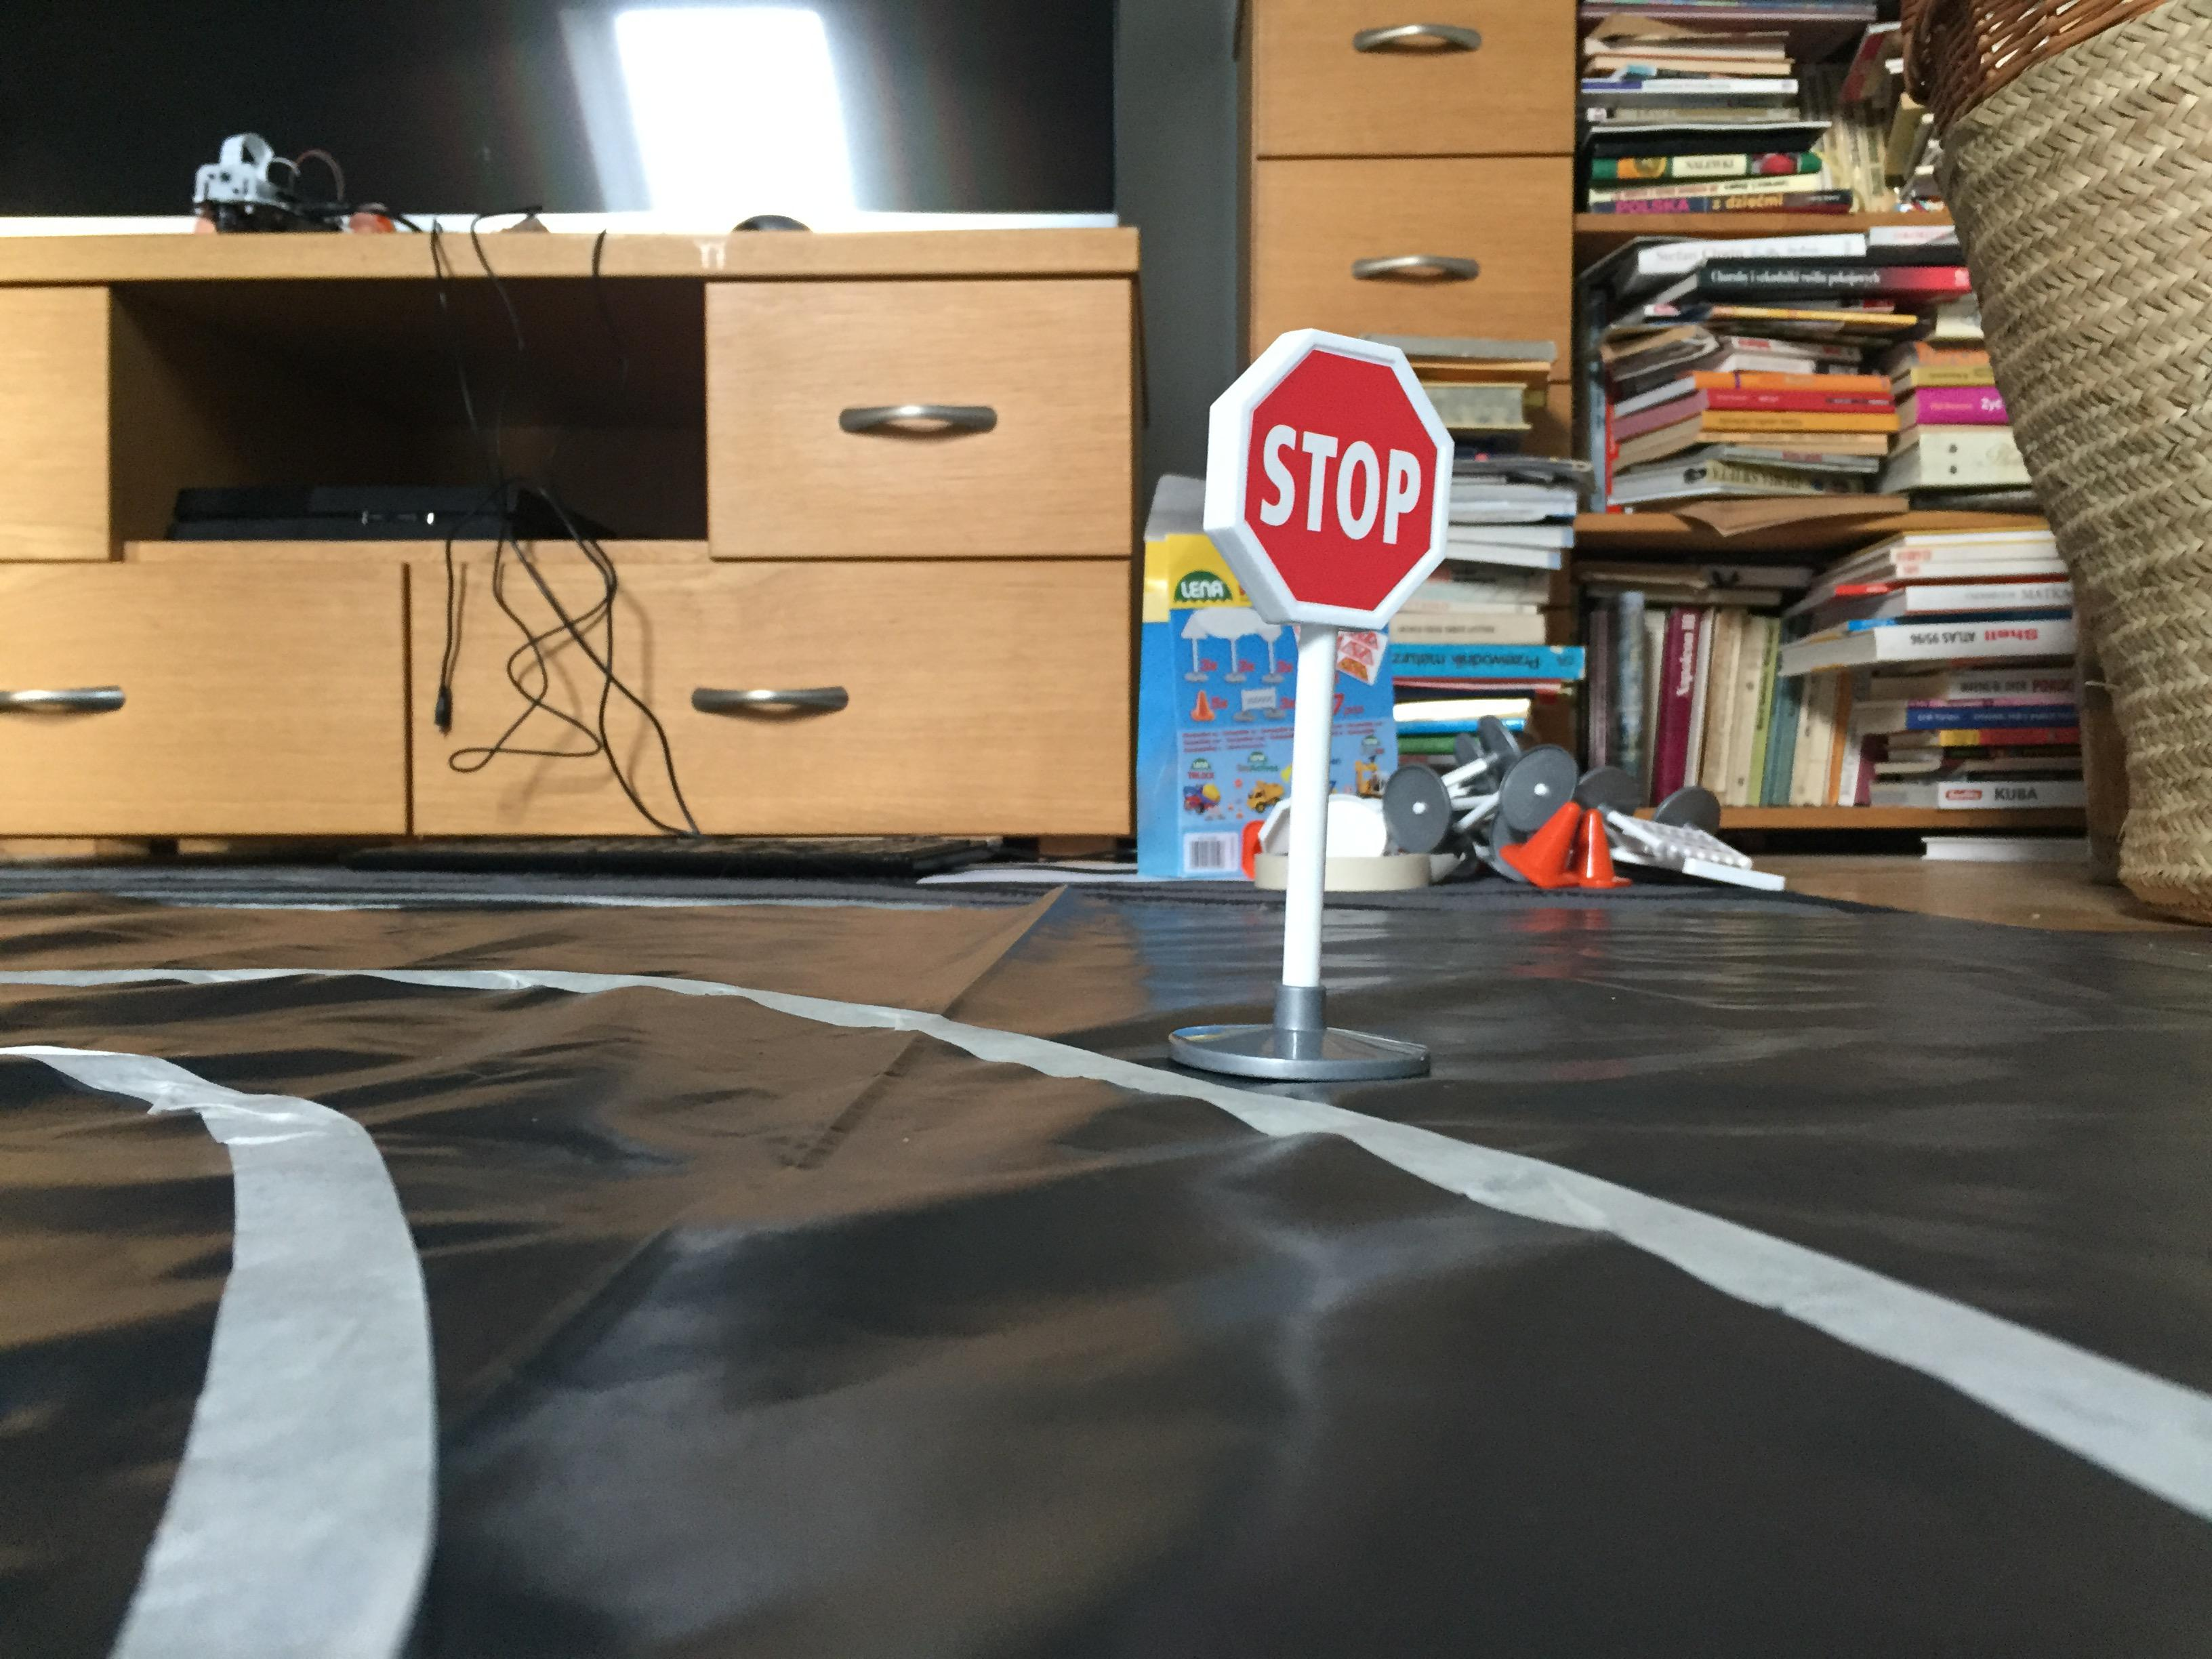stop: (1188, 322, 1472, 641)
